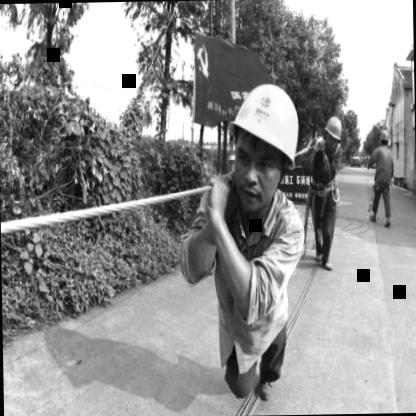helmet: (216, 66, 309, 219), (320, 112, 344, 152), (377, 125, 392, 150)
